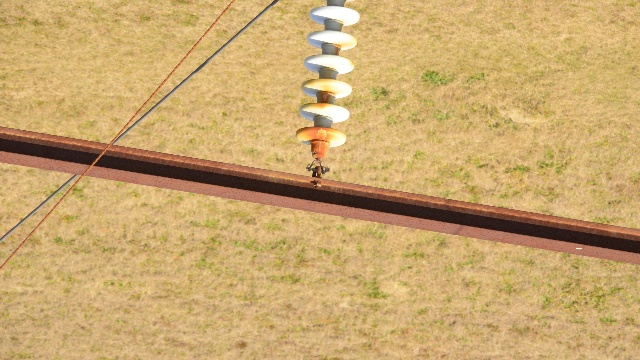insulator_unspecified: (295, 0, 360, 148)
pollution_flashover_local: (311, 130, 327, 140)
